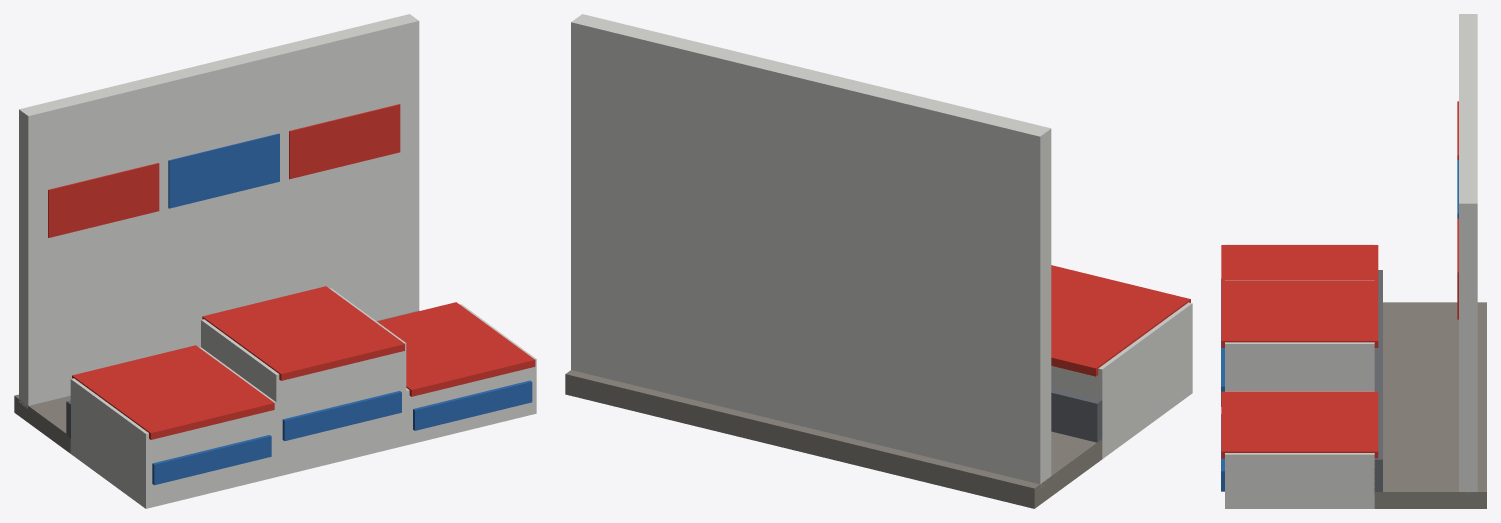
Rendered from podium.glb.
3 renders of one model, left to right at view 1: azimuth 30°, elevation 25°; view 2: azimuth 150°, elevation 25°; view 3: azimuth 270°, elevation 25°, orthographic. The views are drawn at different scales.
Parts seen in each view (by area): view 1: podium_white, podium_red, podium_blue, podium_step_p2, podium_step_p1, podium_step_p3, podium_concreteDark; view 2: podium_white, podium_concreteDark, podium_step_p2, podium_red, podium_steel; view 3: podium_red, podium_concreteDark, podium_white, podium_step_p3, podium_step_p1, podium_steel, podium_blue.
Part boxes in pixels (x1,y1,x2,y2): podium_white: (19, 14, 419, 408); podium_red: (48, 104, 535, 439); podium_blue: (152, 133, 532, 485); podium_step_p2: (70, 347, 276, 508); podium_step_p1: (201, 288, 406, 476); podium_step_p3: (406, 304, 536, 445); podium_concreteDark: (14, 310, 419, 453); podium_white: (571, 14, 1051, 485); podium_concreteDark: (565, 370, 1102, 508); podium_step_p2: (1051, 302, 1192, 458); podium_red: (1051, 265, 1190, 376); podium_steel: (1051, 387, 1102, 442); podium_red: (1221, 101, 1458, 458); podium_concreteDark: (1374, 302, 1486, 508); podium_white: (1459, 14, 1477, 493); podium_step_p3: (1225, 391, 1374, 508); podium_step_p1: (1225, 280, 1374, 391); podium_steel: (1373, 270, 1382, 493); podium_blue: (1221, 160, 1458, 491).
Bounding box in the file's own units: 12 × 9 × 7.11.
